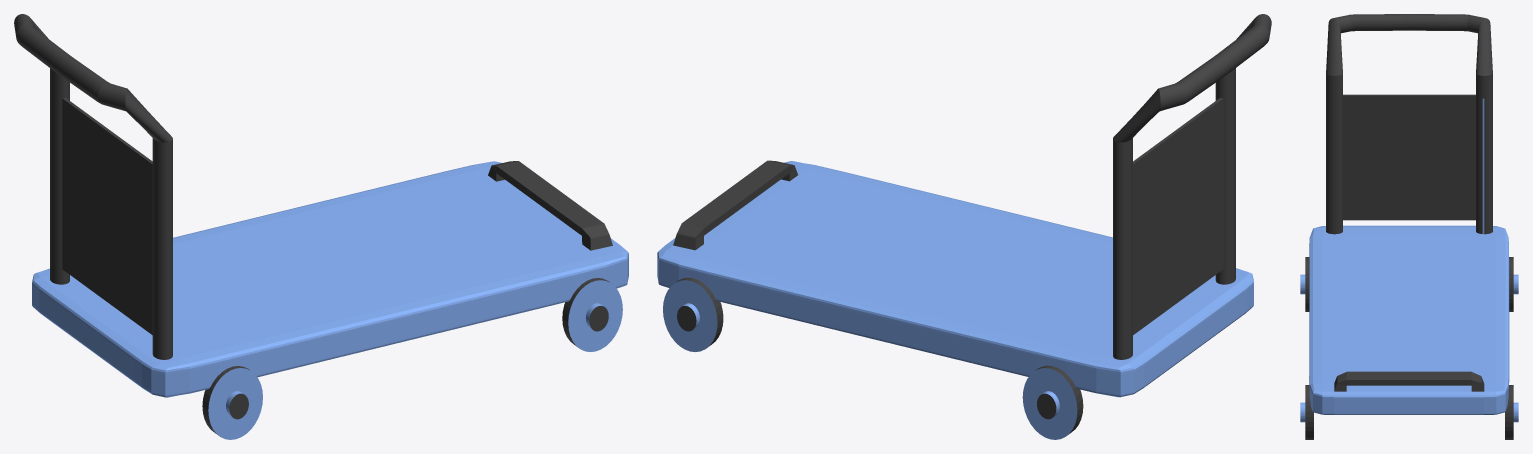
File: CartJoined.fbx
3 views of the same model, side by side, from view 1: azimuth 30°, elevation 25°; view 2: azimuth 150°, elevation 25°; view 3: azimuth 270°, elevation 25° (orthographic). The views are drawn at different scales.
Parts seen in each view (by area): view 1: Cylinder.000; view 2: Cylinder.000; view 3: Cylinder.000.
Boxes of the visible parts, x1,y1,x2,y2 form: Cylinder.000: (14,14,628,439); Cylinder.000: (657,14,1271,439); Cylinder.000: (1300,14,1518,439).
Bounding box in the file's own units: 108 × 71.78 × 54.66.
